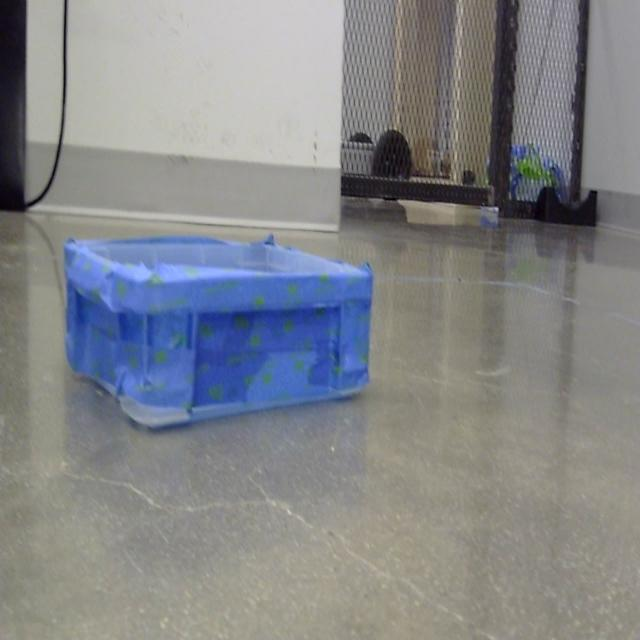bucket: (62, 236, 374, 434)
